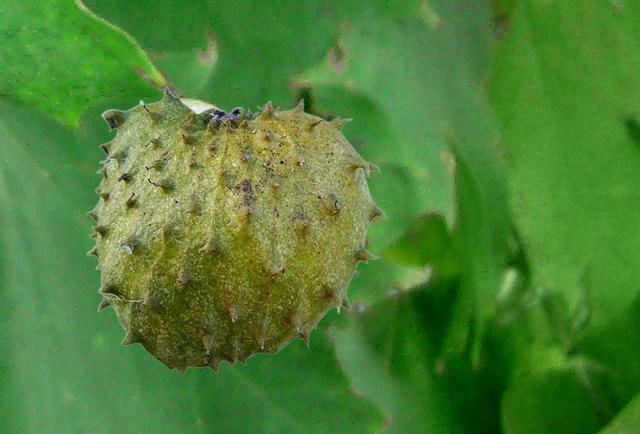guyabano: (84, 85, 386, 373)
